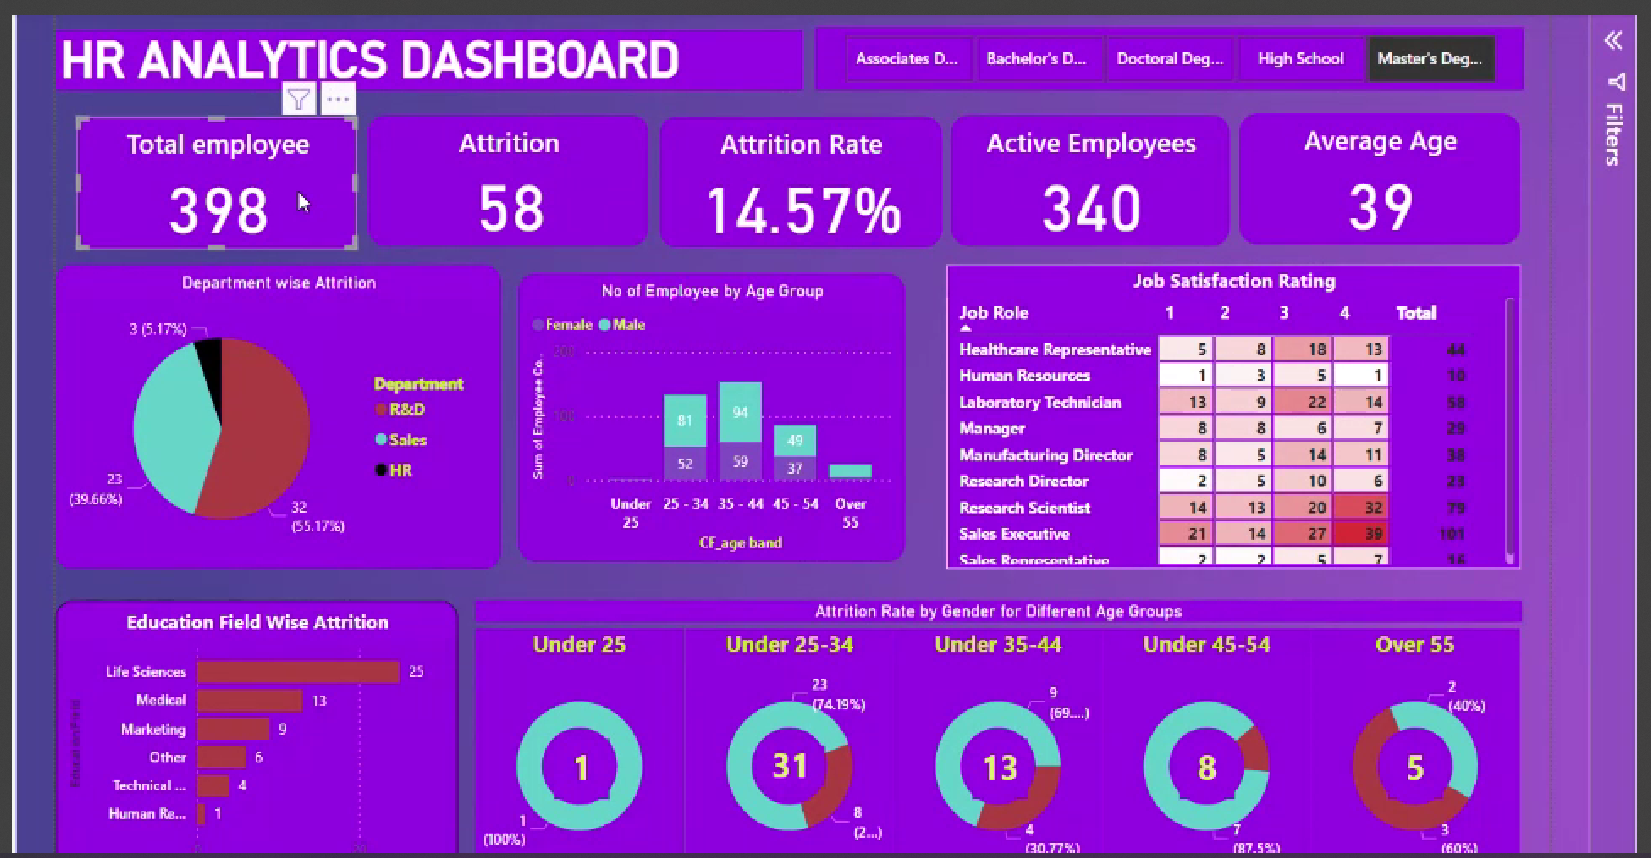

Layout of this report page (visuals, bound fields, positions):
{"tool":"powerbi","page":{"name":"Page 1","canvas":[1280,720],"ordinal":0},"visuals":[{"type":"card","title":"Total employee","fields":{"Values":["Sum(HR data.Employee Count)"]},"box":[18,86.7,240,110],"z":0},{"type":"card","title":"Attrition","fields":{"Values":["Sum(HR data.attrition count)"]},"box":[268,85.5,240,108.8],"z":1000},{"type":"card","title":"Attrition Rate","fields":{"Values":["HR data.Attrition Rate"]},"box":[516.7,86.7,241.2,108.8],"z":2000},{"type":"card","title":"Active Employees","fields":{"Values":["HR data.Active Employees"]},"box":[766.7,85.5,238.8,108.8],"z":3000},{"type":"card","title":"Average Age","fields":{"Values":["Avg(HR data.Age)"]},"box":[1014.2,84.2,240,108.8],"z":4000},{"type":"pieChart","title":" Department wise Attrition","fields":{"Category":["HR data.Department"],"Y":["Sum(HR data.attrition count)"]},"box":[0,210,381.2,253.8],"z":5000},{"type":"columnChart","title":"No of Employee by Age Group","fields":{"Category":["HR data.CF_age band"],"Y":["Sum(HR data.Employee Count)"],"Series":["HR data.Gender"]},"box":[396.2,217.5,331.2,240],"z":6000},{"type":"pivotTable","title":"Job Satisfaction Rating","fields":{"Rows":["HR data.Job Role"],"Columns":["HR data.Job Satisfaction"],"Values":["Sum(HR data.Employee Count)"]},"box":[762.5,210,491.2,253.8],"z":7000},{"type":"barChart","title":"Education Field Wise Attrition","fields":{"Category":["HR data.Education Field"],"Y":["Sum(HR data.attrition count)"]},"box":[0,490.4,344.8,229.9],"z":8000},{"type":"donutChart","title":"Under 25","fields":{"Category":["HR data.Gender"],"Y":["Sum(HR data.attrition count)"],"Series":["HR data.CF_age band"]},"box":[360,514,178.8,205],"z":9000},{"type":"textbox","title":"Attrition Rate by Gender for Different Age Groups","box":[360,490,896.2,17.5],"z":10000},{"type":"donutChart","title":"Under 25-34","fields":{"Category":["HR data.Gender"],"Y":["Sum(HR data.attrition count)"],"Series":["HR data.CF_age band"]},"box":[538.8,514,178.8,205],"z":11000},{"type":"donutChart","title":"Under 35-44","fields":{"Category":["HR data.Gender"],"Y":["Sum(HR data.attrition count)"],"Series":["HR data.CF_age band"]},"box":[717.5,514,178.8,205],"z":12000},{"type":"donutChart","title":"Under 45-54","fields":{"Category":["HR data.Gender"],"Y":["Sum(HR data.attrition count)"],"Series":["HR data.CF_age band"]},"box":[896.2,514,178.8,205],"z":13000},{"type":"donutChart","title":"Over 55","fields":{"Category":["HR data.Gender"],"Y":["Sum(HR data.attrition count)"],"Series":["HR data.CF_age band"]},"box":[1075,514,178.8,205],"z":14000},{"type":"card","fields":{"Values":["Sum(HR data.attrition count)"]},"box":[426.2,605,47.5,50],"z":15000},{"type":"card","fields":{"Values":["Sum(HR data.attrition count)"]},"box":[600,611.2,58.8,33.8],"z":16000},{"type":"card","fields":{"Values":["Sum(HR data.attrition count)"]},"box":[785,605,47.5,50],"z":17000},{"type":"card","fields":{"Values":["Sum(HR data.attrition count)"]},"box":[962.5,605,47.5,50],"z":18000},{"type":"card","fields":{"Values":["Sum(HR data.attrition count)"]},"box":[1141.2,605,47.5,50],"z":19000},{"type":"textbox","title":"HR ANALYTICS DASHBOARD","box":[0,15,640,50],"z":20000},{"type":"slicer","fields":{"Values":["HR data.Education"]},"box":[650,12.5,606.2,52.5],"z":21000}]}

Visuals, with their boxes on the page's 1280x720 design canvas (x1, y1, x2, y2). These are canvas units, not pixel positions in the 1651x858 screenshot, which may show the page scaled, cropped or inside an application window:
"Total employee" card: [18,87,258,197]
"Attrition" card: [268,86,508,194]
"Attrition Rate" card: [517,87,758,196]
"Active Employees" card: [767,86,1006,194]
"Average Age" card: [1014,84,1254,193]
" Department wise Attrition" pieChart: [0,210,381,464]
"No of Employee by Age Group" columnChart: [396,218,727,458]
"Job Satisfaction Rating" pivotTable: [762,210,1254,464]
"Education Field Wise Attrition" barChart: [0,490,345,720]
"Under 25" donutChart: [360,514,539,719]
"Attrition Rate by Gender for Different Age Groups" textbox: [360,490,1256,508]
"Under 25-34" donutChart: [539,514,718,719]
"Under 35-44" donutChart: [718,514,896,719]
"Under 45-54" donutChart: [896,514,1075,719]
"Over 55" donutChart: [1075,514,1254,719]
card - Sum(HR data.attrition count): [426,605,474,655]
card - Sum(HR data.attrition count): [600,611,659,645]
card - Sum(HR data.attrition count): [785,605,832,655]
card - Sum(HR data.attrition count): [962,605,1010,655]
card - Sum(HR data.attrition count): [1141,605,1189,655]
"HR ANALYTICS DASHBOARD" textbox: [0,15,640,65]
slicer - HR data.Education: [650,12,1256,65]
